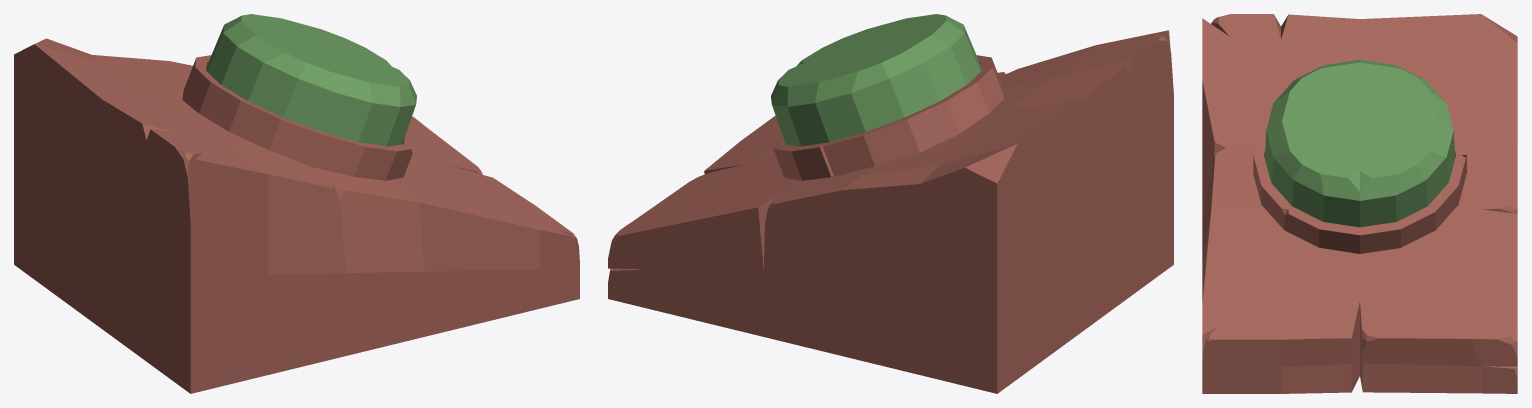
File: Button1.fbx
3 views of the same model, side by side, from view 1: azimuth 30°, elevation 25°; view 2: azimuth 150°, elevation 25°; view 3: azimuth 270°, elevation 25° (orthographic). The views are drawn at different scales.
Parts seen in each view (by area): view 1: TempatButton1, PressButton1; view 2: TempatButton1, PressButton1; view 3: TempatButton1, PressButton1.
Part boxes in pixels (box(x1,y1,x2,y2)): TempatButton1: box(14, 38, 579, 393); PressButton1: box(206, 14, 416, 146); TempatButton1: box(608, 30, 1173, 393); PressButton1: box(771, 14, 981, 146); TempatButton1: box(1202, 14, 1517, 393); PressButton1: box(1265, 59, 1454, 227).
Bounding box in the file's own units: 22.82 × 14.37 × 17.93.
